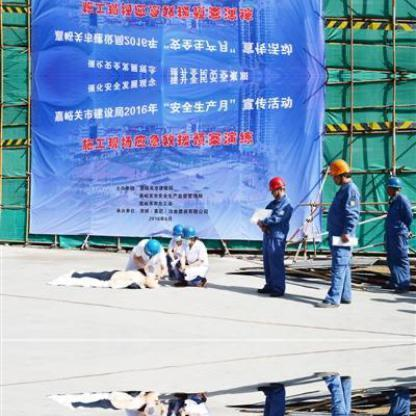helmet: (326, 158, 350, 179), (267, 177, 286, 195), (143, 239, 161, 257), (381, 174, 403, 188), (182, 227, 198, 237), (173, 223, 182, 237)
